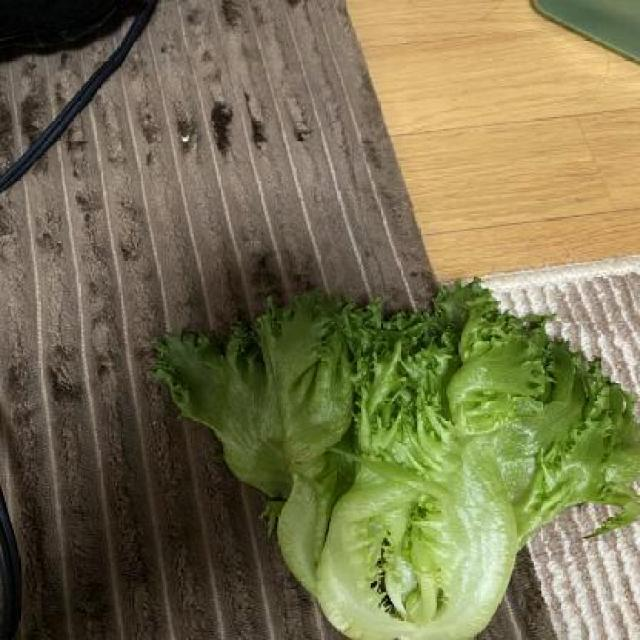Lettuce: (151, 278, 638, 640)
